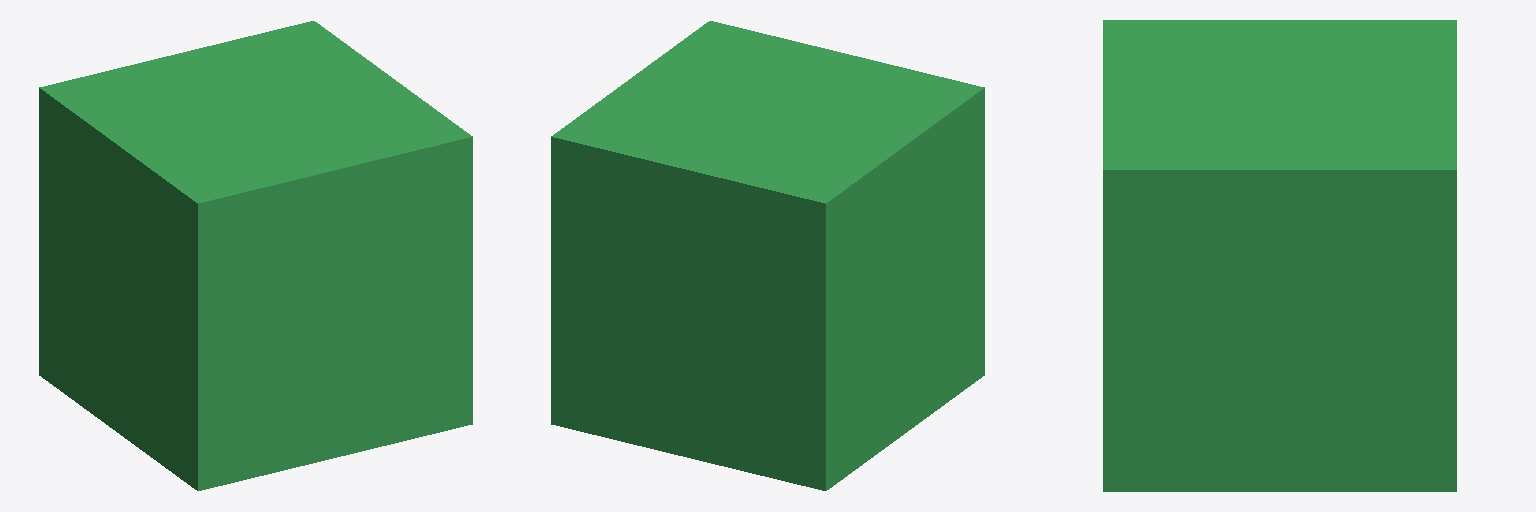
robot.urdf — box:
<?xml version="1.0" encoding="utf-8"?>
<robot name="box">

 <link name="dummy_box">
   <inertial>
     <origin xyz="0 0 0.5" rpy="0 0 0"/>
     <mass value="100"/>
     <inertia ixx="100"  ixy="0"  ixz="0" iyy="100" iyz="0" izz="100" />
   </inertial>

   <visual>
     <origin xyz="0 0 0.5" rpy="0 0 0" />
     <geometry>
       <box size="1 1 1" />
     </geometry>
     <material name="Cyan">
       <color rgba="0.3 0.7 0.4 1"/>
     </material>
   </visual>

   <collision>
     <origin xyz="0 0 0.5" rpy="0 0 0"/>
     <geometry>
       <box size="1 1 1" />
     </geometry>
   </collision>
 </link>
 
 </robot>

--- Facts derived from the render (not from the file) ---
3 views of the same robot in one strip: view 1: azimuth 30°, elevation 25°; view 2: azimuth 150°, elevation 25°; view 3: azimuth 270°, elevation 25° (orthographic).
Robot: box — 1 links, 0 joints (none); root link dummy_box; default pose: all joints at 0.
Visible links, largest first — view 1: dummy_box; view 2: dummy_box; view 3: dummy_box.
Boxes of the visible links, bbox=[...] form: dummy_box: bbox=[39, 21, 472, 490]; dummy_box: bbox=[551, 21, 984, 490]; dummy_box: bbox=[1103, 20, 1456, 491].
Bounding box of the posed robot: 1 × 1 × 1 m (x, y, z).
Geometry: primitives only (box / cylinder / sphere), no mesh files.
